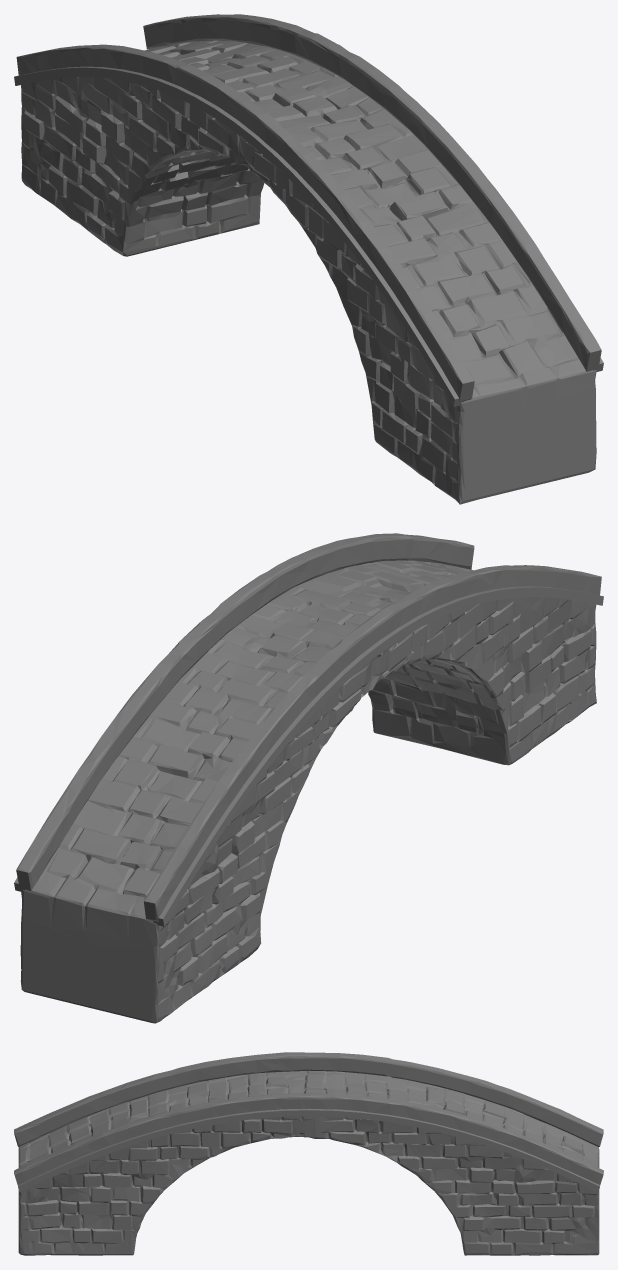
Rendered from bridge_c.FBX.
3 renders of one model, top to bottom at view 1: azimuth 30°, elevation 25°; view 2: azimuth 150°, elevation 25°; view 3: azimuth 270°, elevation 25°, orthographic. The views are drawn at different scales.
Visible parts, largest first — view 1: bridge_c; view 2: bridge_c; view 3: bridge_c.
Boxes of the visible parts, <box> form: bridge_c: <box>14,14,603,504</box>; bridge_c: <box>14,533,603,1023</box>; bridge_c: <box>14,1052,603,1255</box>.
Bounding box in the file's own units: 5.28 × 8.2 × 27.44.
